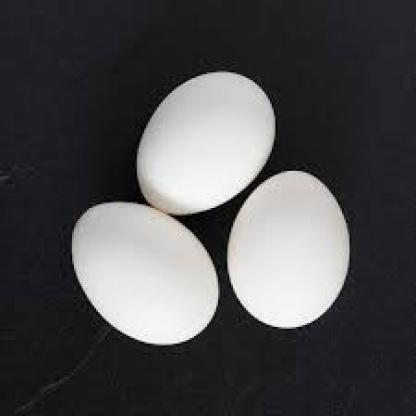egg: (70, 200, 219, 348), (136, 69, 276, 218), (228, 170, 352, 328)
